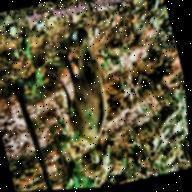boar: (30, 16, 149, 162)
